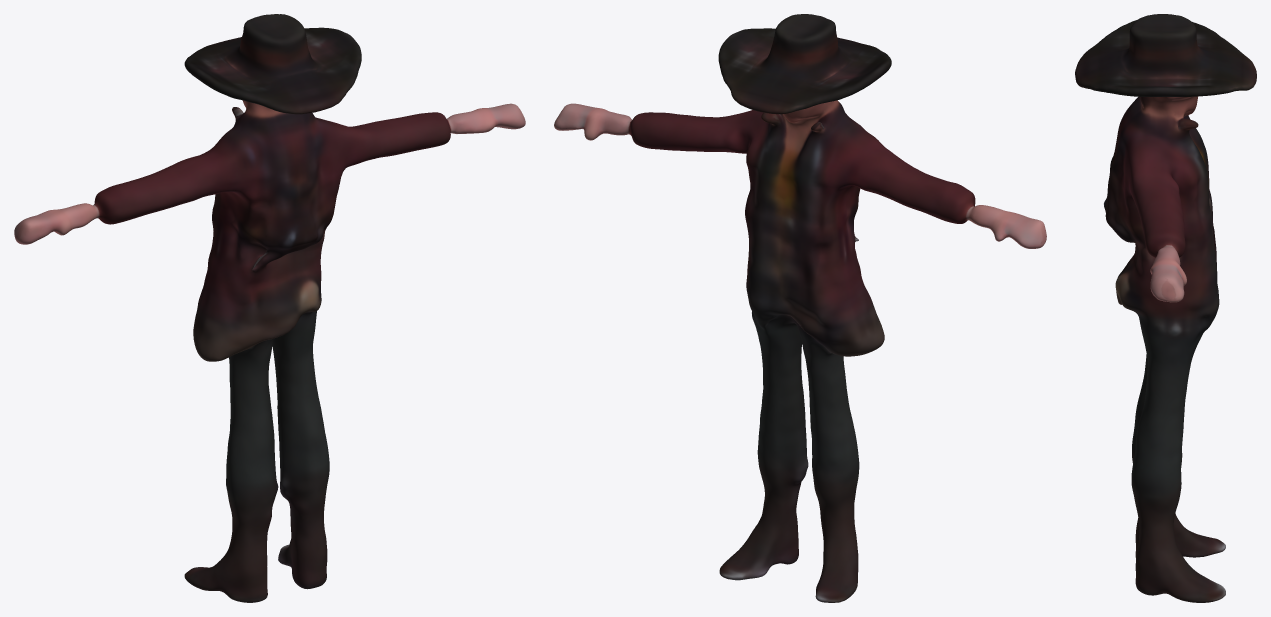
Rendered from gunslinger.glb.
3 renders of one model, left to right at view 1: azimuth 30°, elevation 25°; view 2: azimuth 150°, elevation 25°; view 3: azimuth 270°, elevation 25°, orthographic. The views are drawn at different scales.
Visible parts, largest first — view 1: world; view 2: world; view 3: world.
Boxes of the visible parts, bbox=[...] form: world: bbox=[14, 14, 525, 602]; world: bbox=[554, 14, 1046, 602]; world: bbox=[1075, 14, 1256, 602].
Bounding box in the file's own units: 0.5372 × 0.5754 × 0.1717.
1 material, 1 textured.
